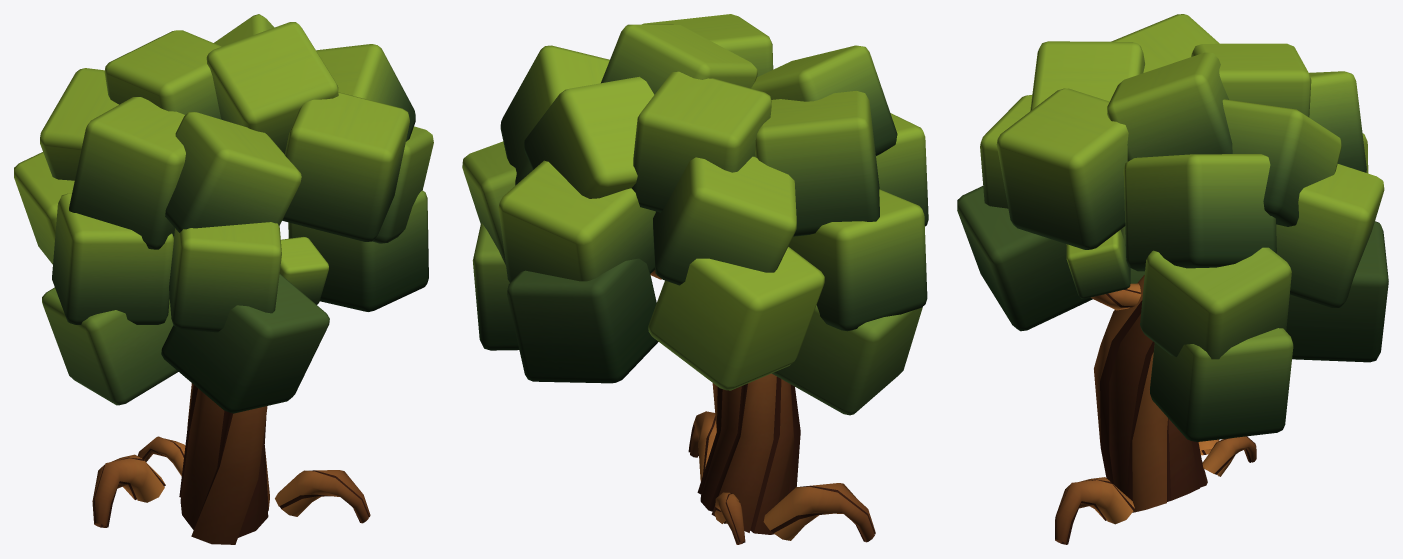
Rendered from SquareTree_02.fbx.
The picture shows the model from 3 angles, left to right: view 1: azimuth 30°, elevation 25°; view 2: azimuth 150°, elevation 25°; view 3: azimuth 270°, elevation 25°; orthographic projection. The views are drawn at different scales.
Parts seen in each view (by area): view 1: SquareTree_02; view 2: SquareTree_02; view 3: SquareTree_02.
Boxes of the visible parts, x1=… form: SquareTree_02: x1=14, y1=14, x2=433, y2=544; SquareTree_02: x1=462, y1=14, x2=928, y2=544; SquareTree_02: x1=957, y1=14, x2=1388, y2=544.
Size of the model in its own units: 565 by 631 by 511.
